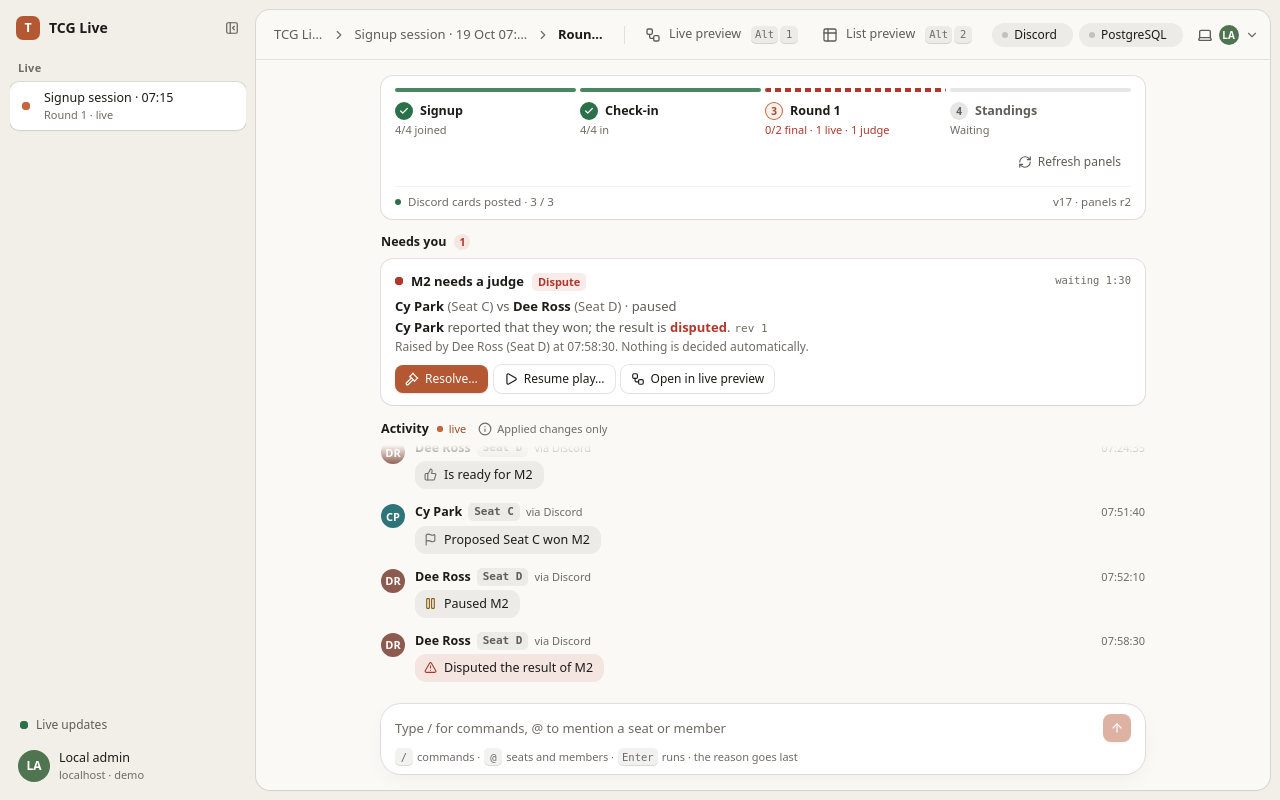
top bar › theme menu updates the preference and rotate link confirms, then toasts
(page scrolled)
Click the button with aria-label "Theme and account".
click(1227, 34)  # box [1189,20,1265,50]
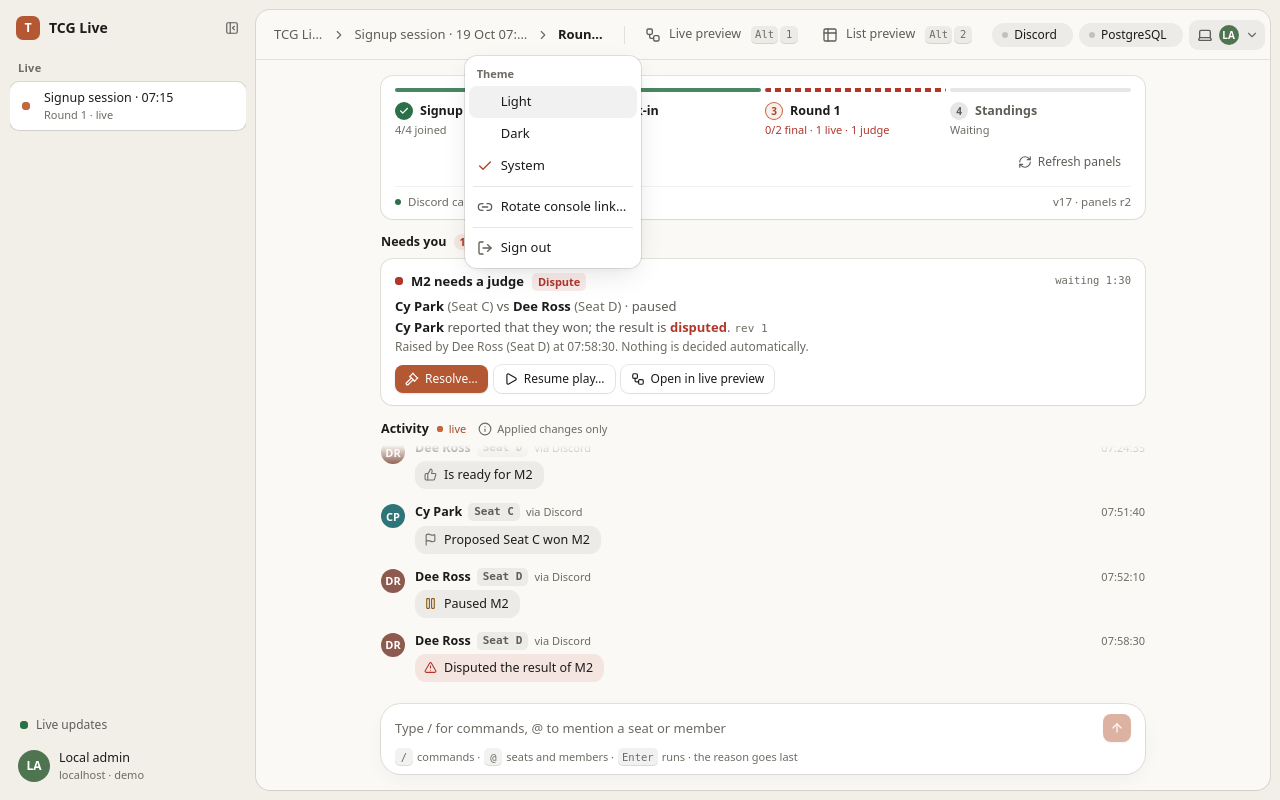
Click the menu item "Dark".
click(515, 133)  # box [501,124,530,142]
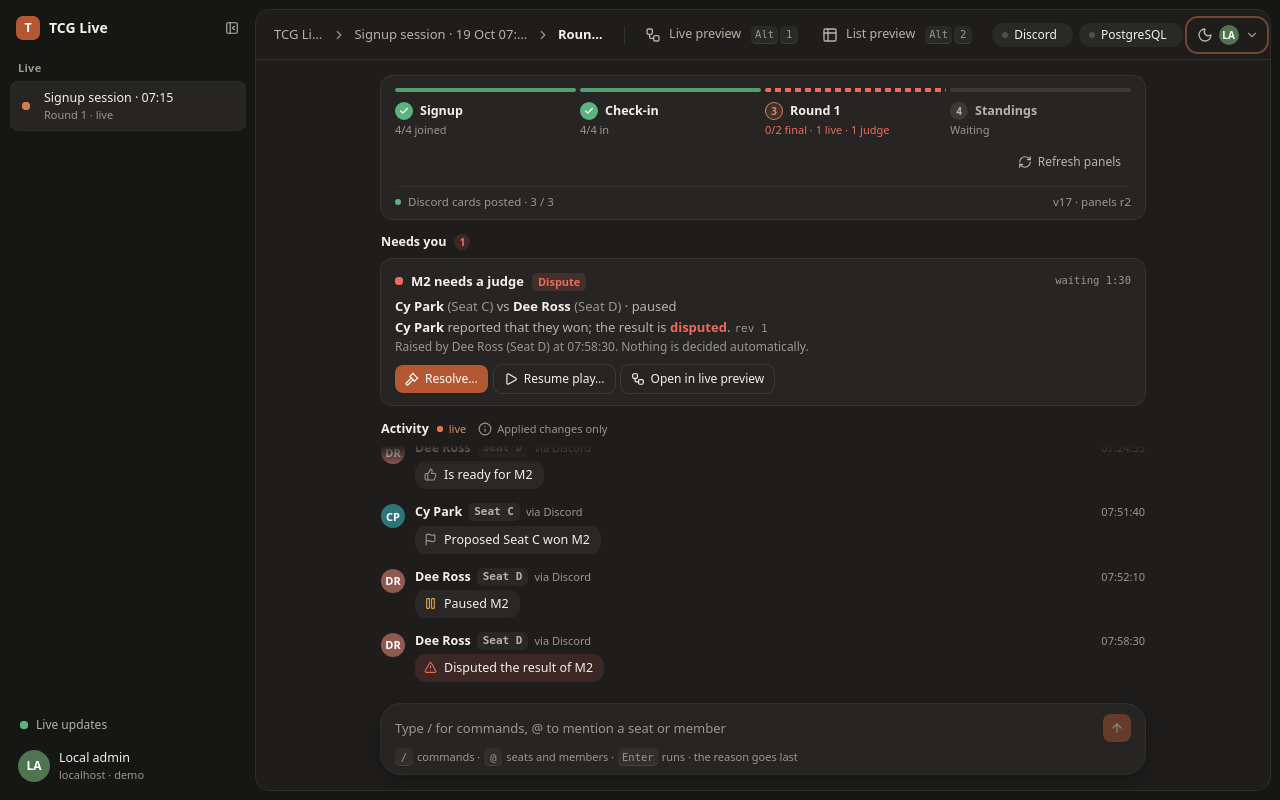
Click the button with aria-label "Theme and account".
click(1227, 34)  # box [1189,20,1265,50]
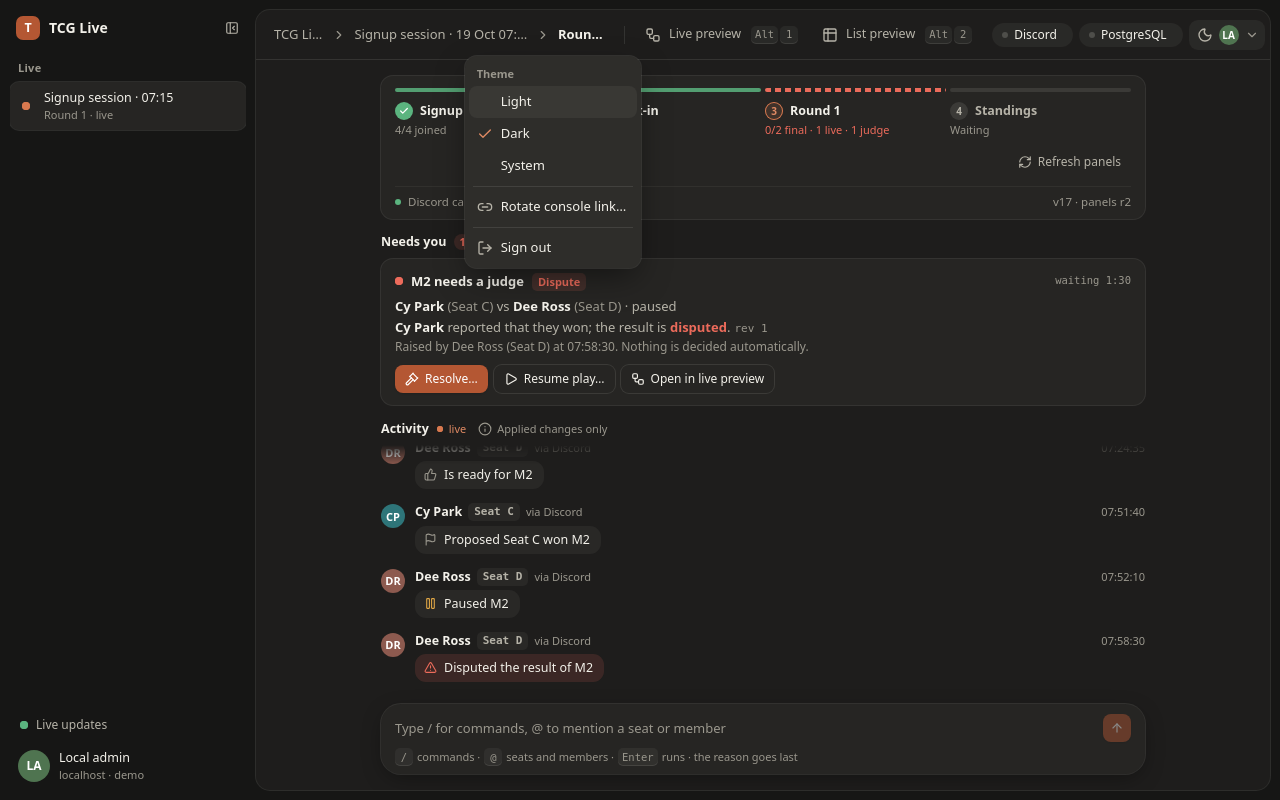
Click the menu item "Rotate console link…".
click(551, 206)  # box [477,197,626,215]
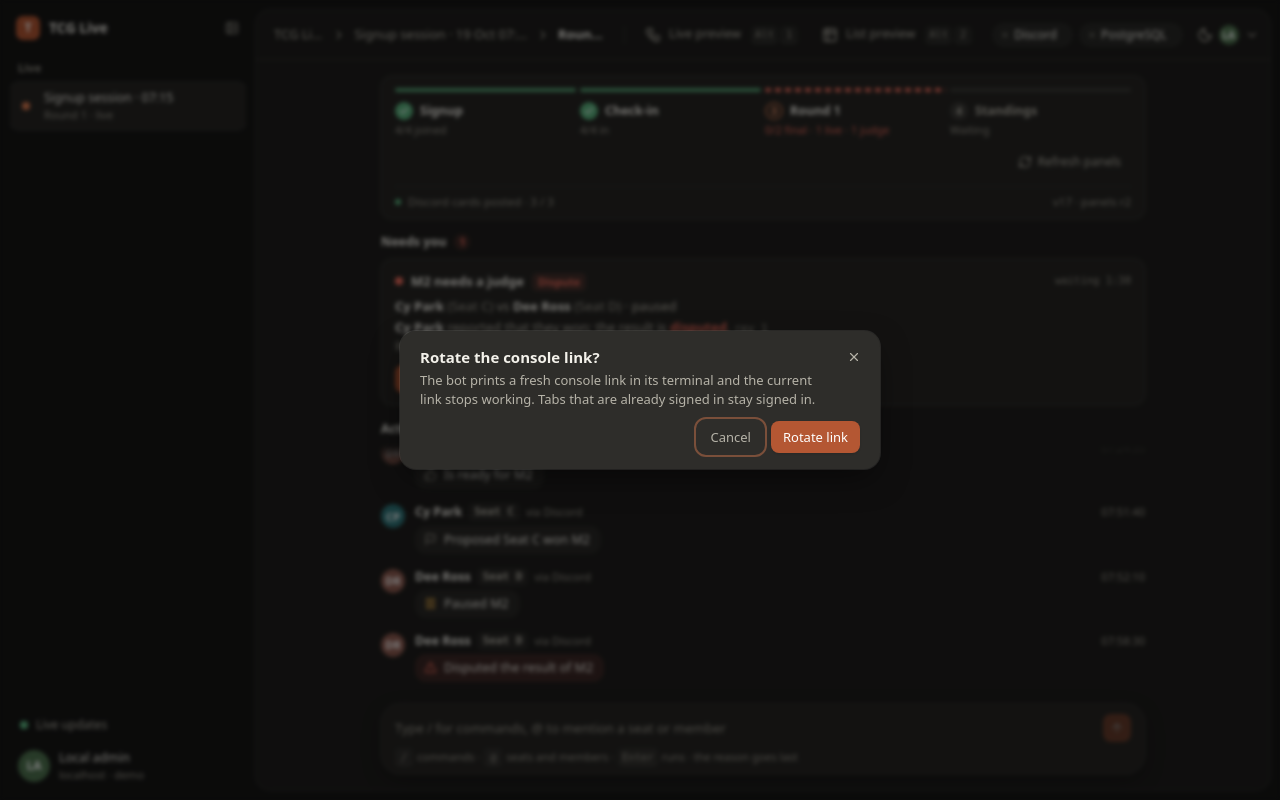
Click the button "Rotate link".
click(816, 437)  # box [771,421,860,453]
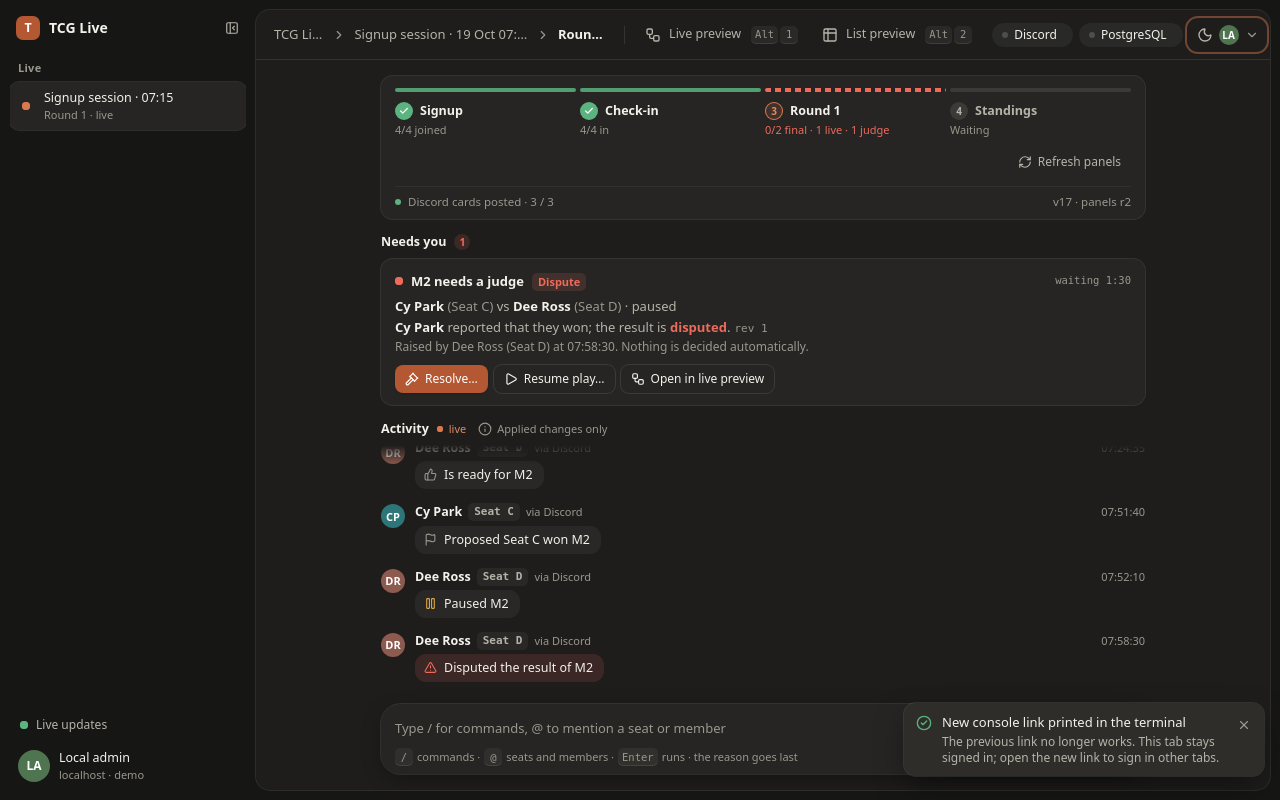
Result: the text "New console link printed in the terminal" is shown at [942,713,1222,732]
